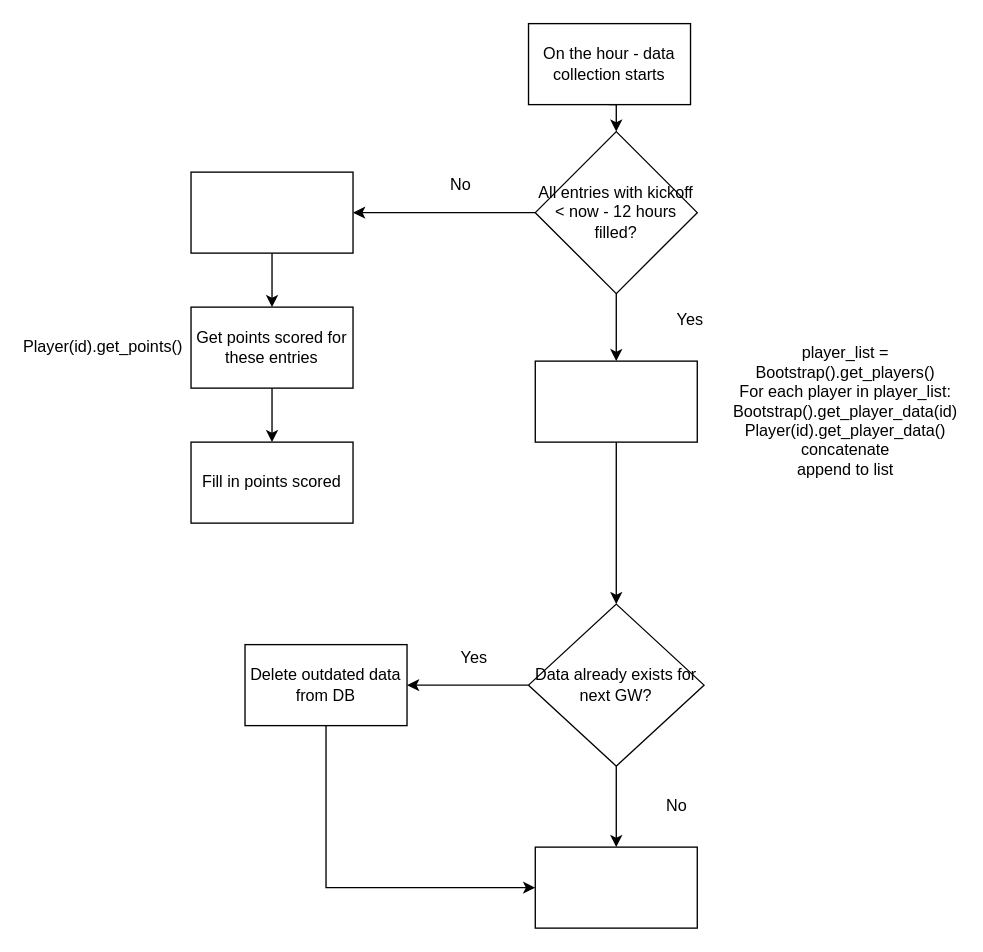
Some shapes in this 983 by 952 pixel diagram are drawn without their labels. The shapes that lost their labels are listed below. From the top down, each one's box as (x1, y1, x2, y2) in pixels, then its label:
(190, 171, 353, 253): Filter entries with no points scored and kickoff time < now - 12 hours (bps)
(534, 360, 697, 442): Collect next GW data
(534, 846, 697, 928): Dump newly collected data to DB
